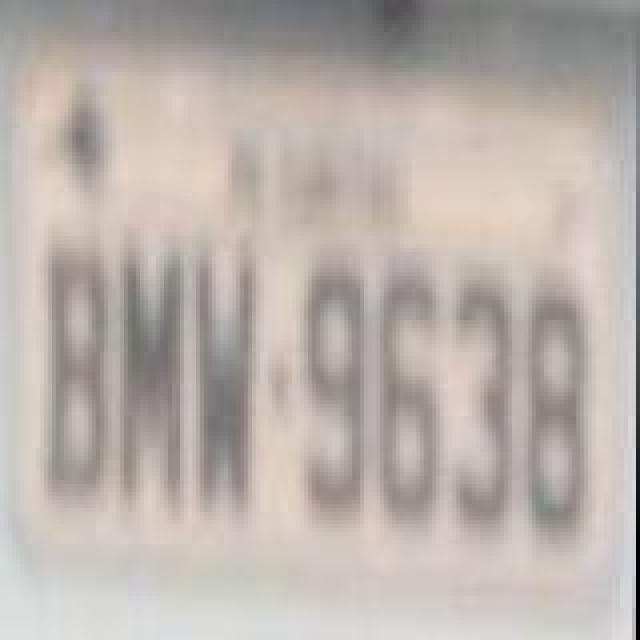3: (454, 270, 518, 530)
6: (374, 266, 438, 534)
8: (526, 286, 590, 546)
9: (300, 254, 368, 530)
B: (46, 242, 110, 510)
M: (118, 242, 182, 518)
W: (194, 250, 258, 518)
